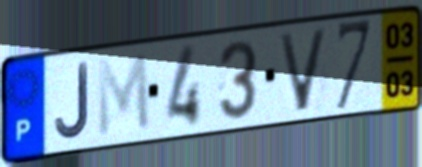3: (215, 38, 260, 123)
4: (164, 40, 205, 133)
7: (334, 17, 376, 114)
J: (52, 59, 92, 142)
M: (95, 50, 153, 142)
V: (276, 26, 332, 116)
